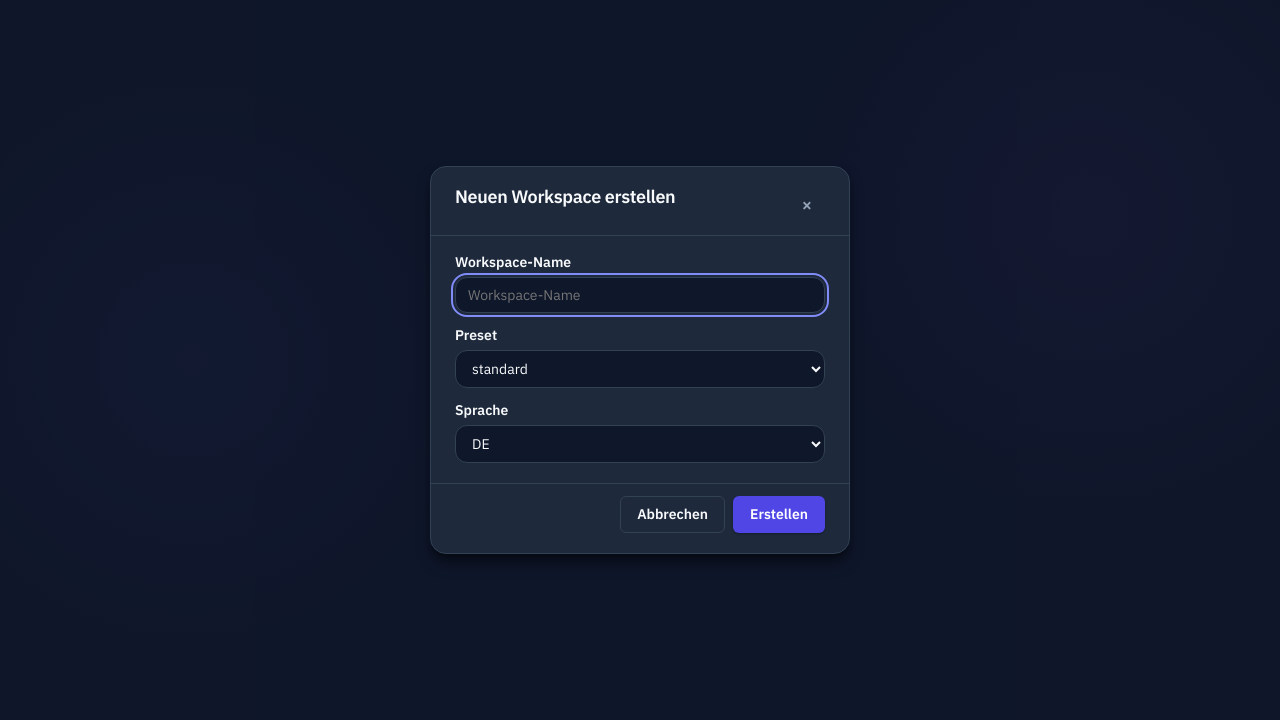
CreateWorkspaceModal — field-level validation error visibility (BUG-08) › clears the field-level invalid state once the user starts typing a name
Click the button with test id "new-workspace-submit". click: (779, 514)
box: [733, 496, 825, 533]
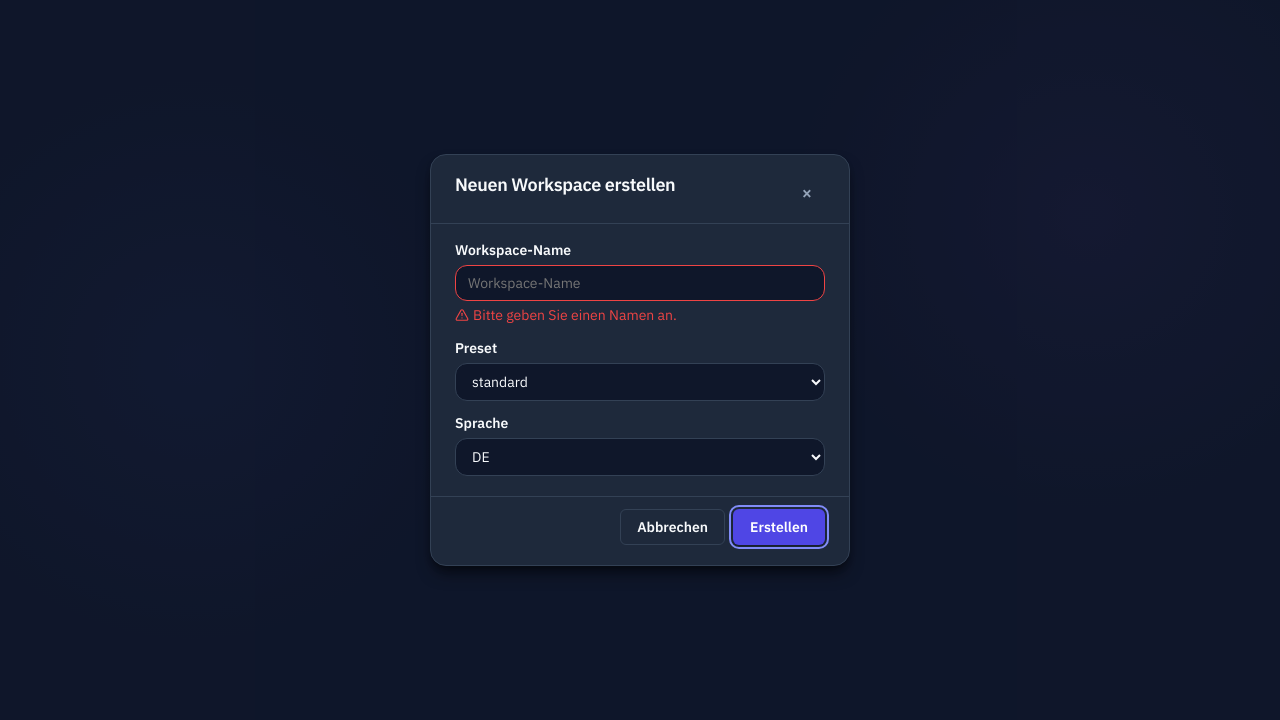
Result: the field with test id "new-workspace-name" is marked as invalid
Type "My Workspace" into the field with test id "new-workspace-name". click: (640, 283)
box: [455, 265, 825, 301]
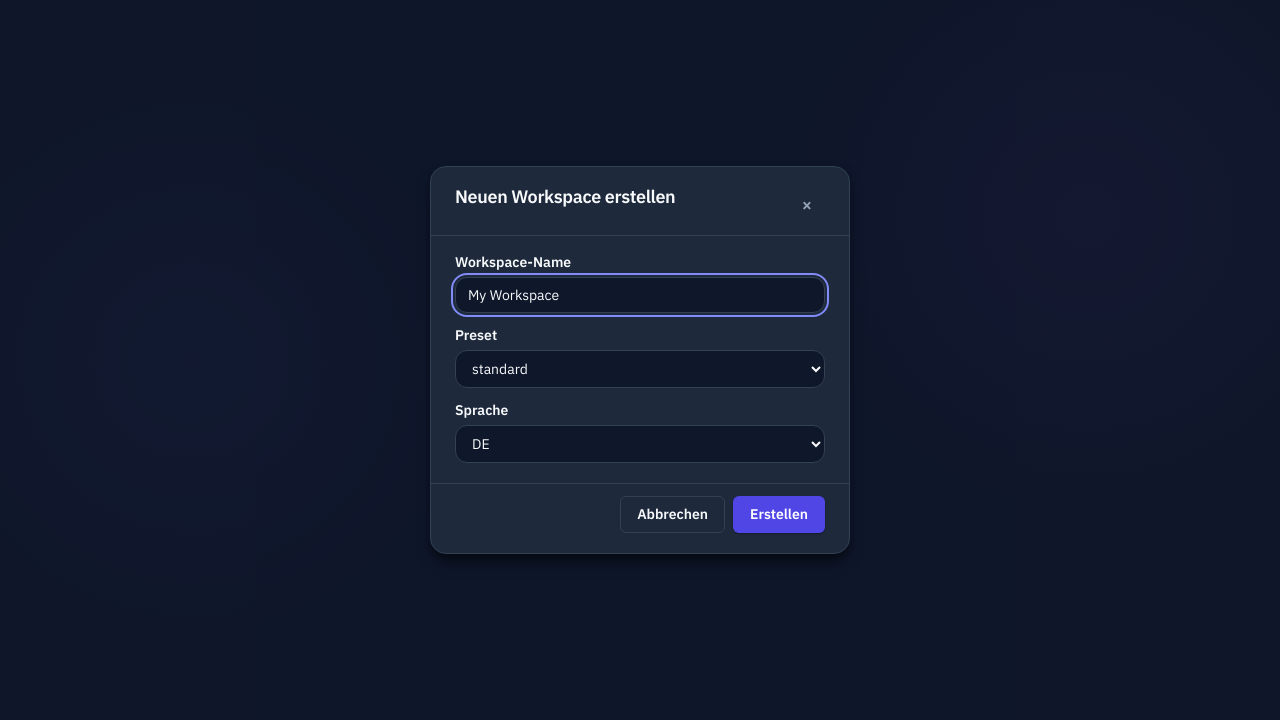
Result: the message with test id "new-workspace-name-field-error" is gone
